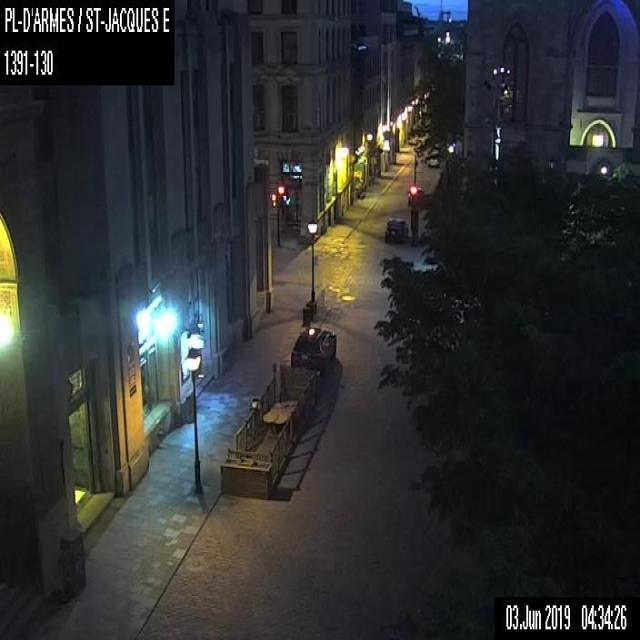vehicle: (288, 324, 336, 370), (384, 216, 408, 244), (426, 157, 439, 168)
